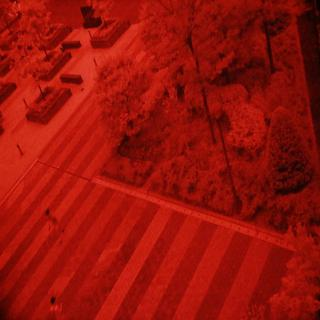person: (41, 199, 69, 241), (42, 292, 65, 320)
